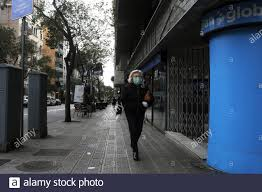mask: (130, 71, 141, 83)
